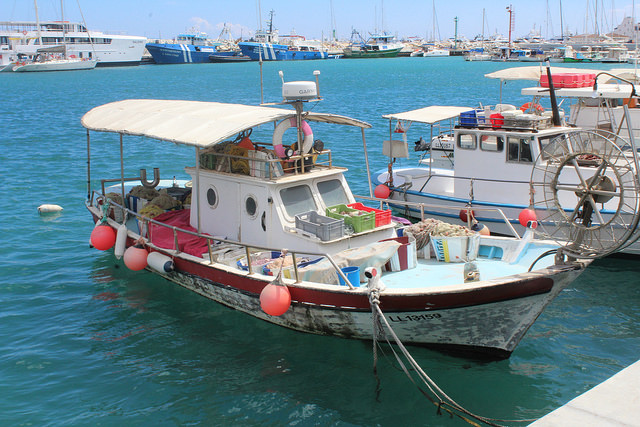boat: (10, 35, 106, 69), (409, 3, 455, 59), (467, 8, 495, 62)
fishing_boat: (82, 66, 568, 362), (377, 92, 637, 247), (345, 4, 400, 60)
tug_boat: (240, 18, 331, 61)
